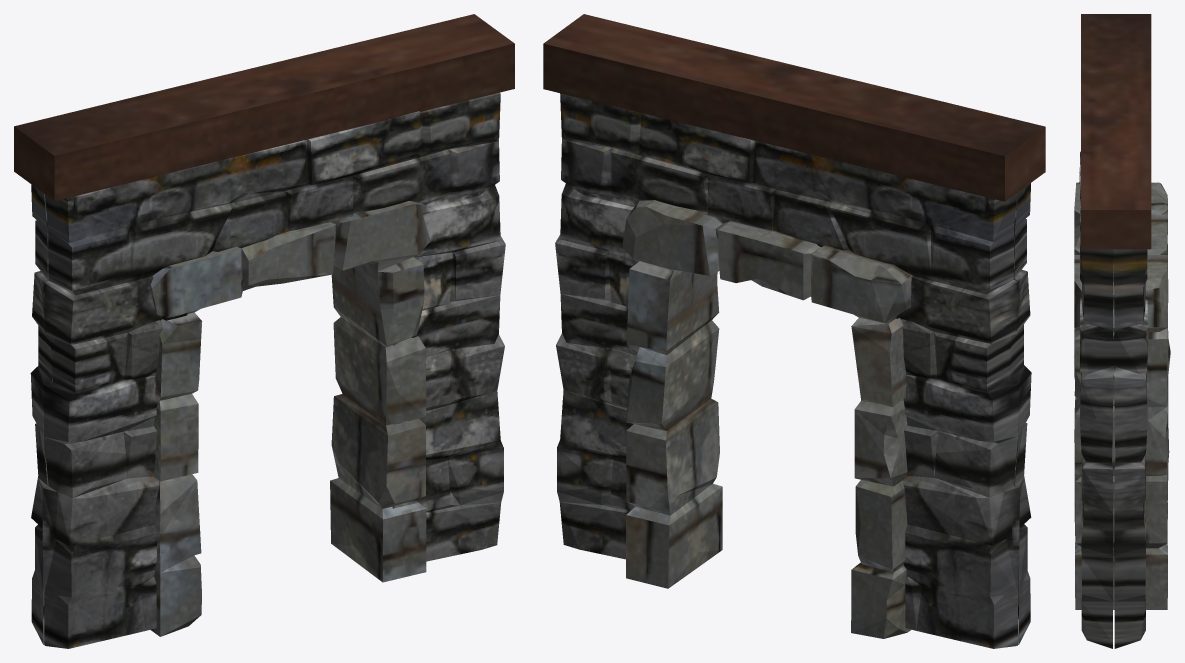
The model's file is Door 1.fbx.
3 renders of one model, left to right at view 1: azimuth 30°, elevation 25°; view 2: azimuth 150°, elevation 25°; view 3: azimuth 270°, elevation 25°, orthographic. The views are drawn at different scales.
Parts seen in each view (by area): view 1: Door 1; view 2: Door 1; view 3: Door 1.
Boxes of the visible parts, <box> form: Door 1: <box>14,14,514,648</box>; Door 1: <box>543,14,1045,648</box>; Door 1: <box>1074,14,1170,648</box>.
Bounding box in the file's own units: 1033 × 1089 × 215.
Materials: 1 (1 with a texture image).
